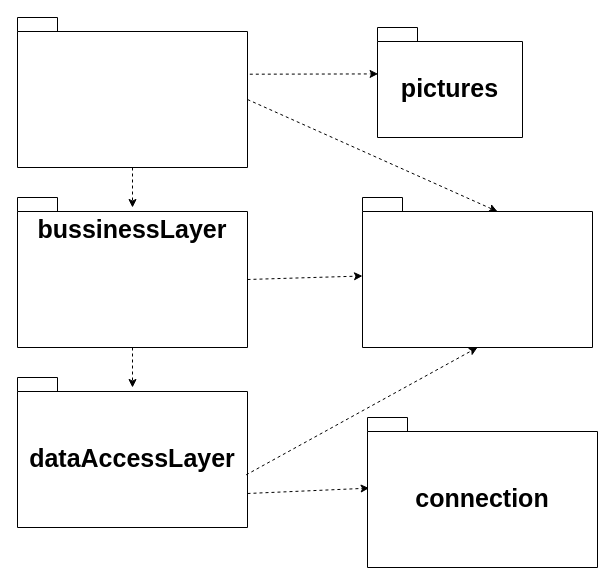
The diagram is 615 pixels wide and 585 high, and some of its shapes have lost their labels. The shapes that lost their labels are listed below. From the top down, each one's centre as x and y in pixels, then its label:
(x=132, y=92): presentation
(x=477, y=272): model
